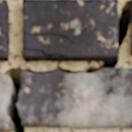brick: (23, 0, 117, 60), (0, 0, 8, 60)
broken_brick: (18, 67, 131, 128), (0, 71, 11, 131)
crack: (2, 0, 131, 131), (22, 31, 76, 45), (22, 46, 64, 58)
